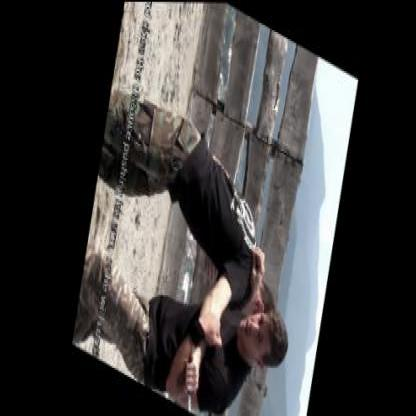knife: (174, 344, 206, 413)
